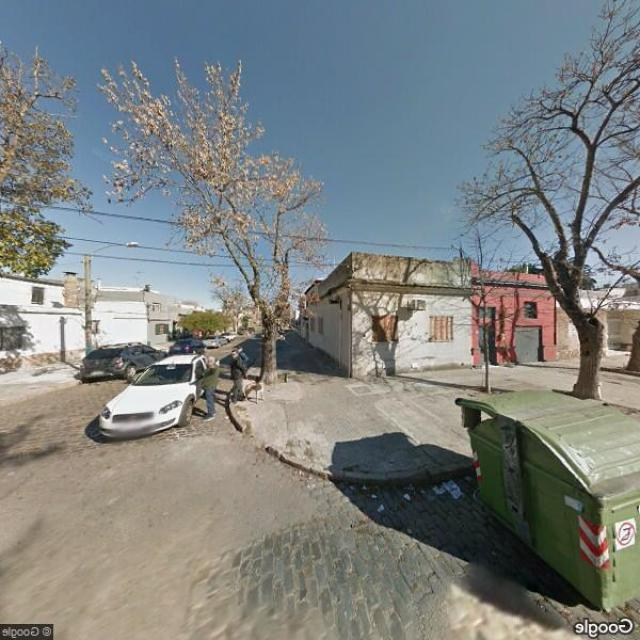garbage container: (451, 380, 639, 614)
